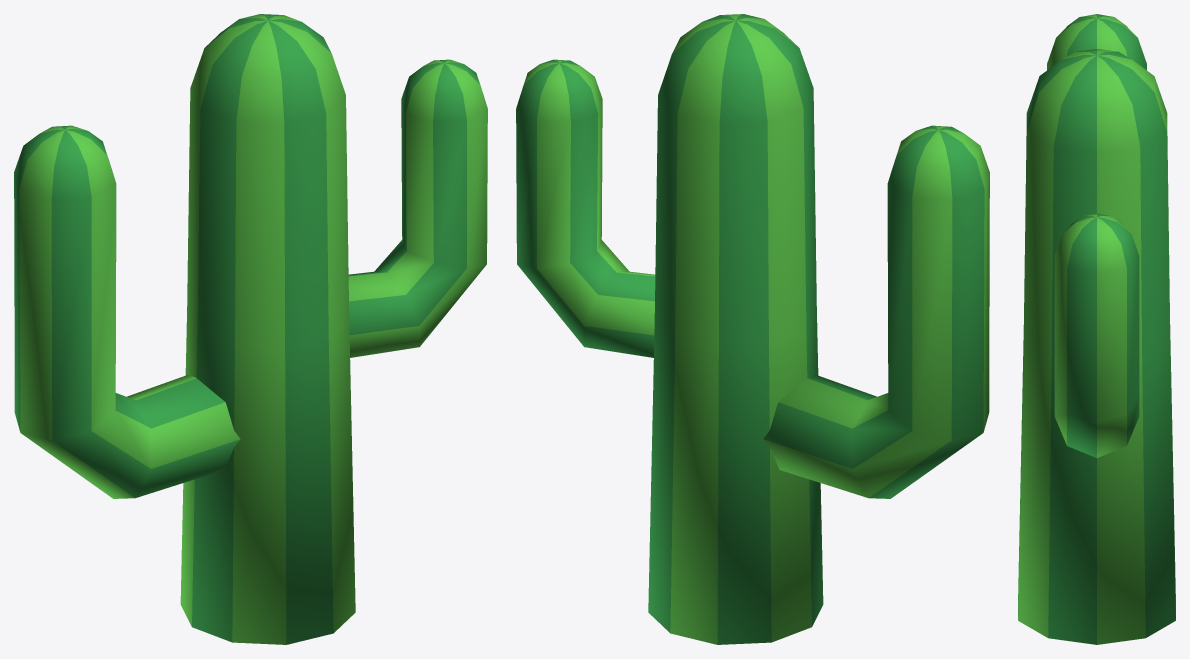
File: cactus_b.glb
The picture shows the model from 3 angles, left to right: view 1: azimuth 30°, elevation 25°; view 2: azimuth 150°, elevation 25°; view 3: azimuth 270°, elevation 25°; orthographic projection. The views are drawn at different scales.
Parts seen in each view (by area): view 1: cactus_b; view 2: cactus_b; view 3: cactus_b.
Part boxes in pixels (box(x1,y1,x2,y2)): cactus_b: box(14, 14, 487, 644); cactus_b: box(516, 14, 989, 644); cactus_b: box(1018, 14, 1175, 644).
Bounding box in the file's own units: 2.63 × 3.18 × 0.8217.
